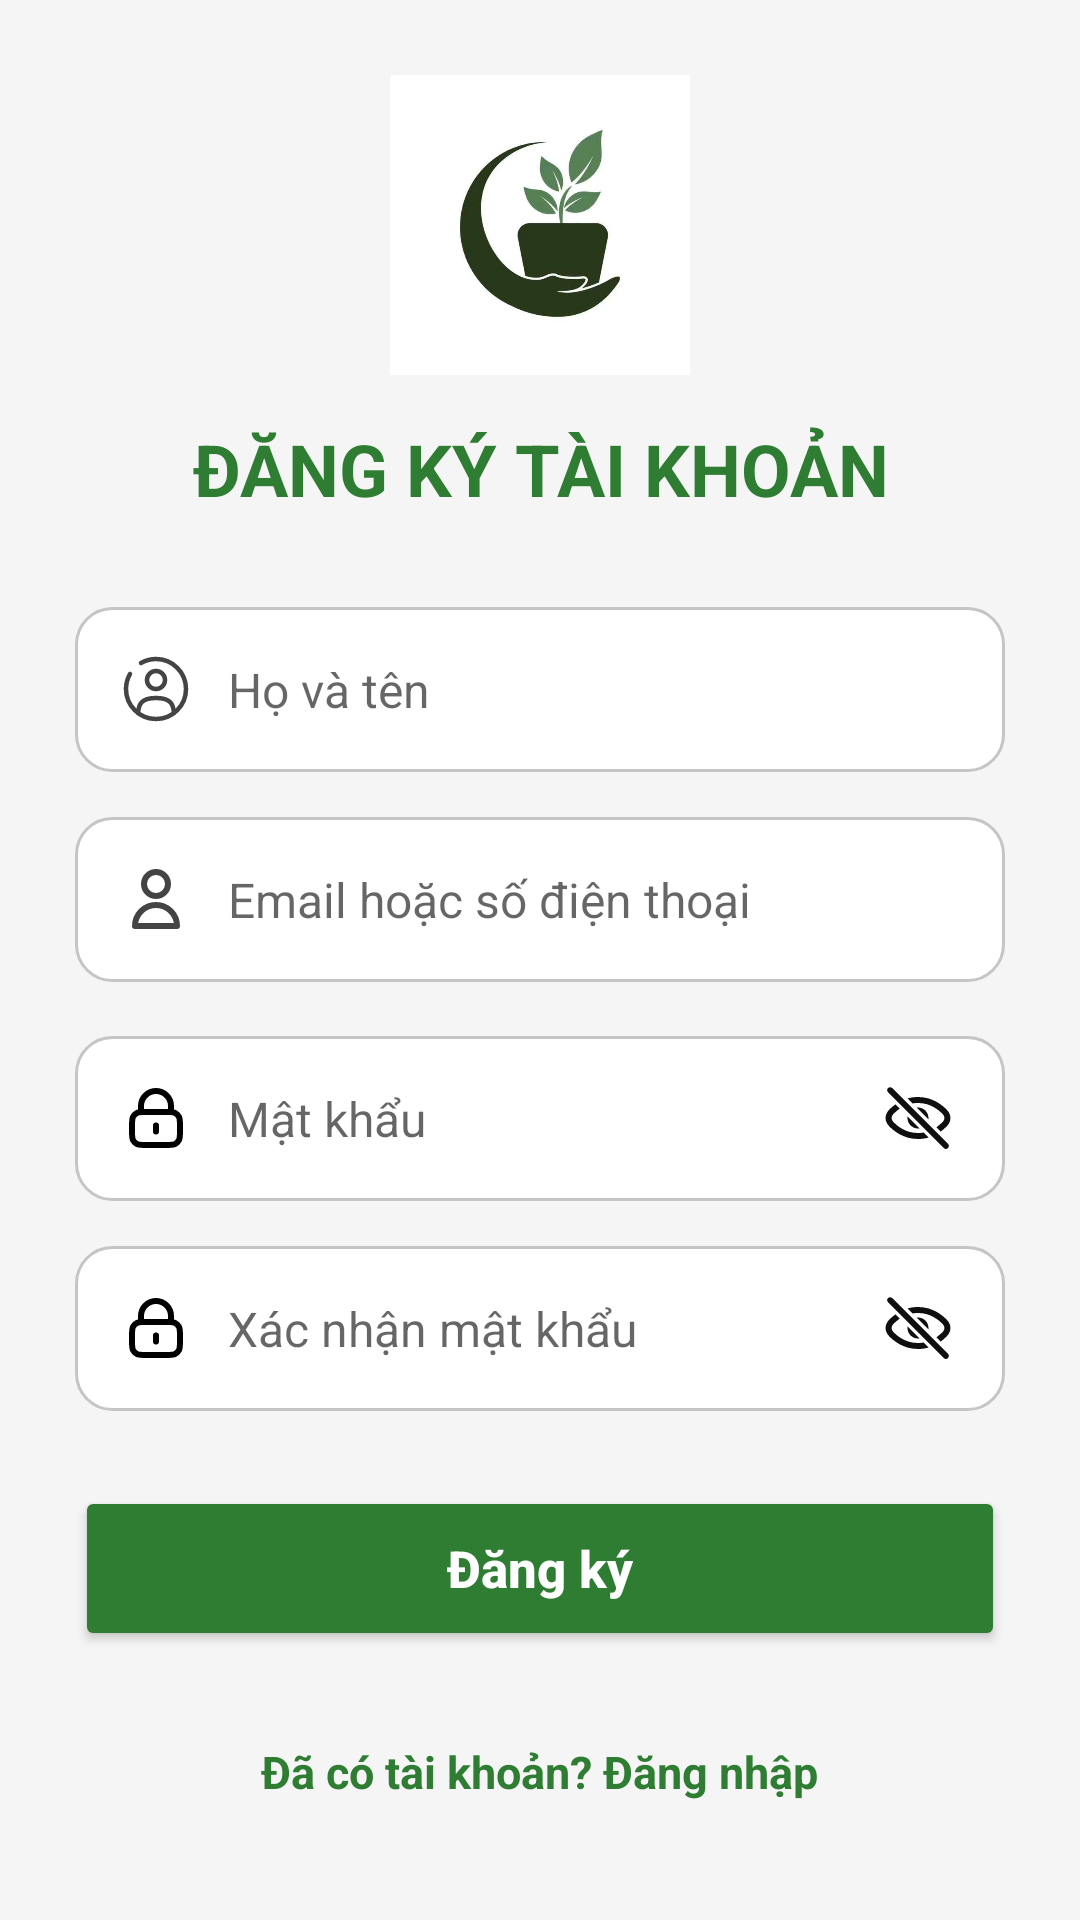

Icon bounding boxes for this 1080*1920 phone screenshot, format {"x1": x1, "y1": y1, "x2": x2, "y2": y2}:
Ổ khóa: {"x1": 129, "y1": 1088, "x2": 183, "y2": 1148}, {"x1": 129, "y1": 1298, "x2": 183, "y2": 1358}
